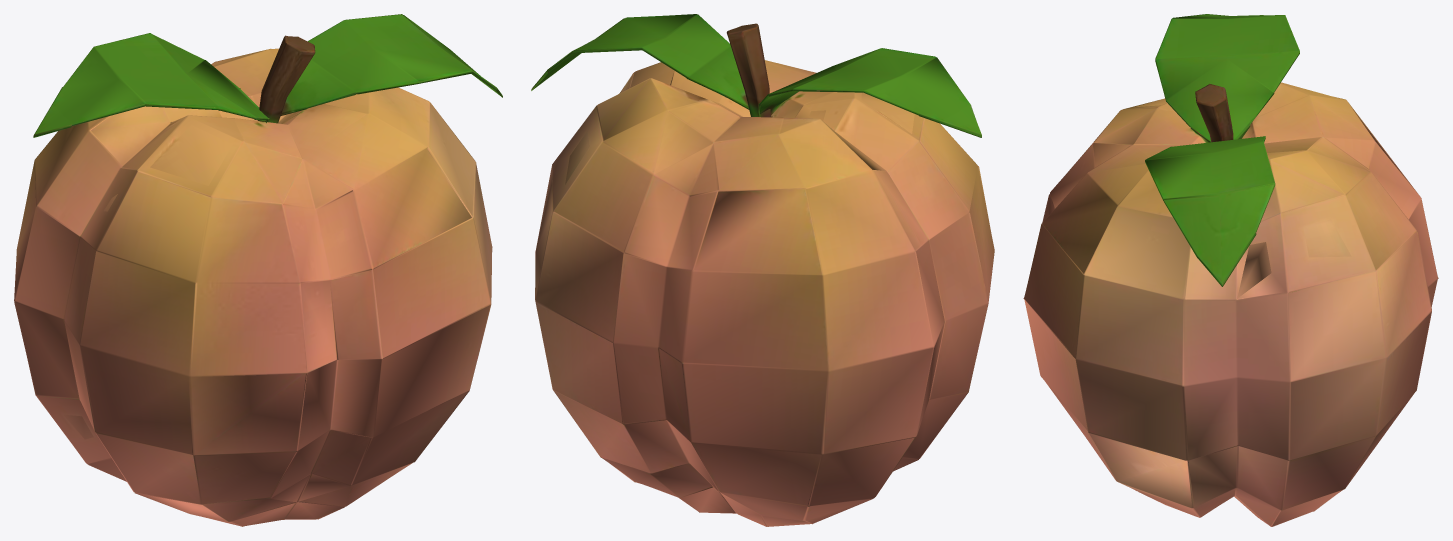
Rendered from 레벨1_복숭아.glb.
The picture shows the model from 3 angles, left to right: view 1: azimuth 30°, elevation 25°; view 2: azimuth 150°, elevation 25°; view 3: azimuth 270°, elevation 25°; orthographic projection. The views are drawn at different scales.
Parts seen in each view (by area): view 1: tripo_node_7e169665-353f-452b-9e96-ce1f88dcca7a; view 2: tripo_node_7e169665-353f-452b-9e96-ce1f88dcca7a; view 3: tripo_node_7e169665-353f-452b-9e96-ce1f88dcca7a.
Boxes of the visible parts, left/top/right/bottom form: tripo_node_7e169665-353f-452b-9e96-ce1f88dcca7a: left=14, top=14, right=502, bottom=526; tripo_node_7e169665-353f-452b-9e96-ce1f88dcca7a: left=531, top=14, right=994, bottom=526; tripo_node_7e169665-353f-452b-9e96-ce1f88dcca7a: left=1023, top=14, right=1438, bottom=526.
Size of the model in its own units: 0.998 by 0.9747 by 0.8535.
Materials: 1 (1 with a texture image).
